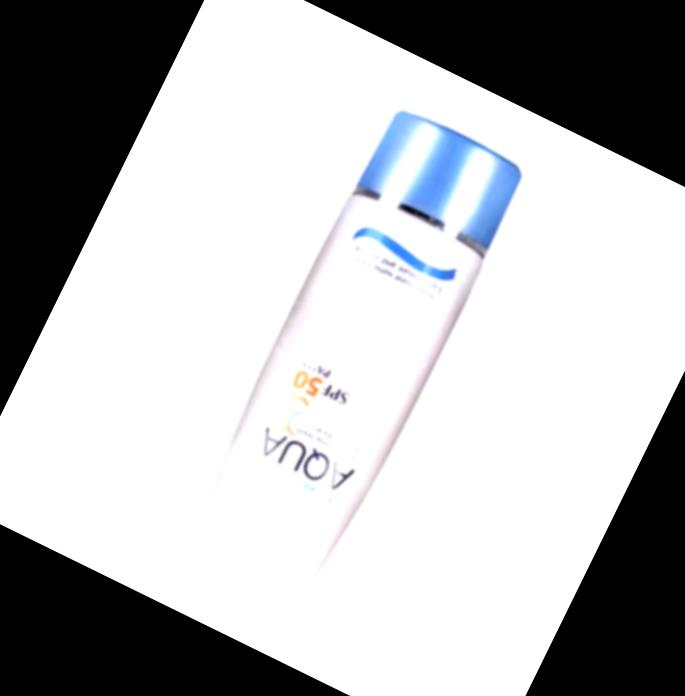cosmetic: (171, 101, 530, 616)
